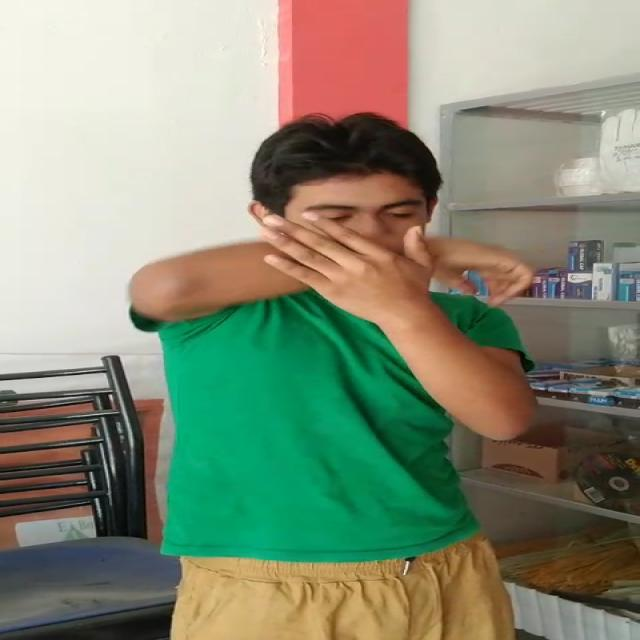7_mano_rostro: (256, 207, 438, 378)
